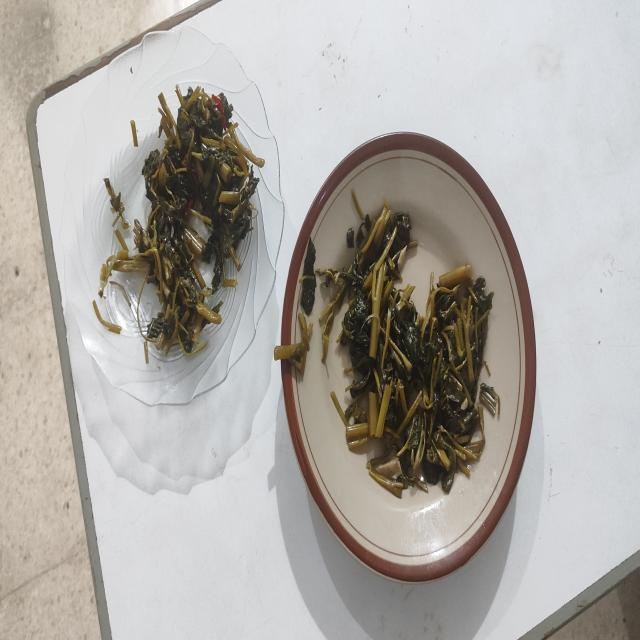tumis_kangkung: (331, 201, 494, 492), (133, 86, 264, 354)
